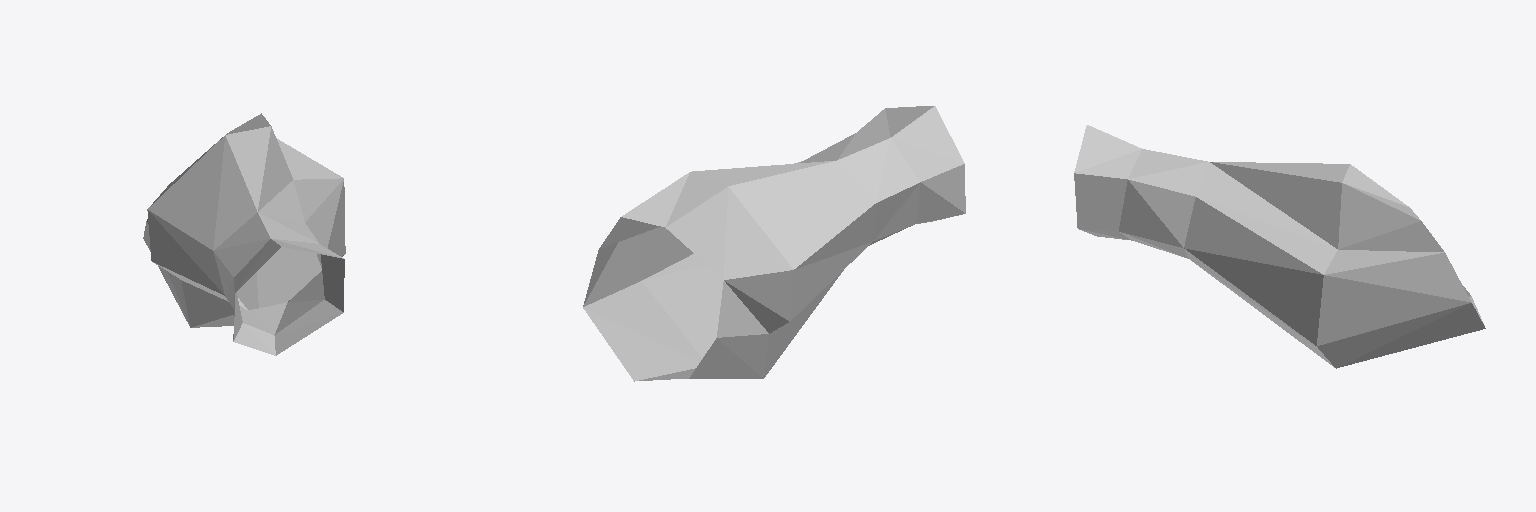
File: AntebrazoIzquierdo.obj
3 renders of one model, left to right at view 1: azimuth 30°, elevation 25°; view 2: azimuth 150°, elevation 25°; view 3: azimuth 270°, elevation 25°, orthographic.
Visible parts, largest first — view 1: aca.013_aca.014; view 2: aca.013_aca.014; view 3: aca.013_aca.014.
Part boxes in pixels (x1,y1,x2,y2): aca.013_aca.014: (143, 113, 345, 355); aca.013_aca.014: (583, 106, 965, 381); aca.013_aca.014: (1074, 125, 1485, 368).
Size of the model in its own units: 0.2711 by 0.2281 by 0.4386.